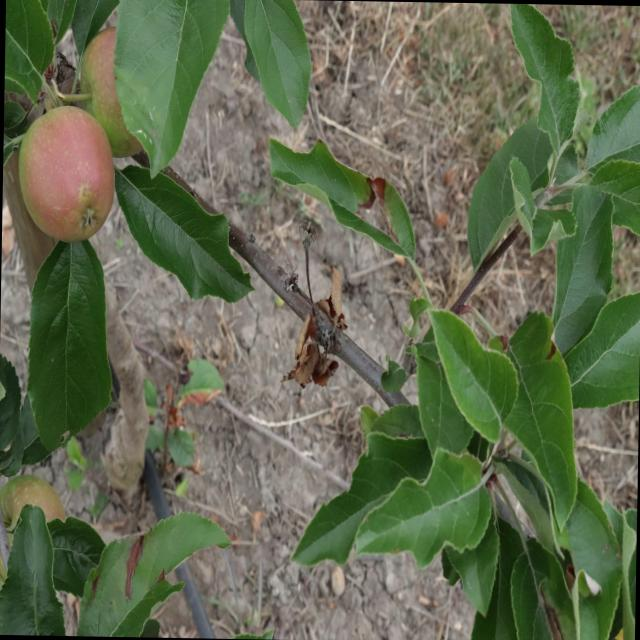-FireBlight-: (303, 264, 352, 384)
